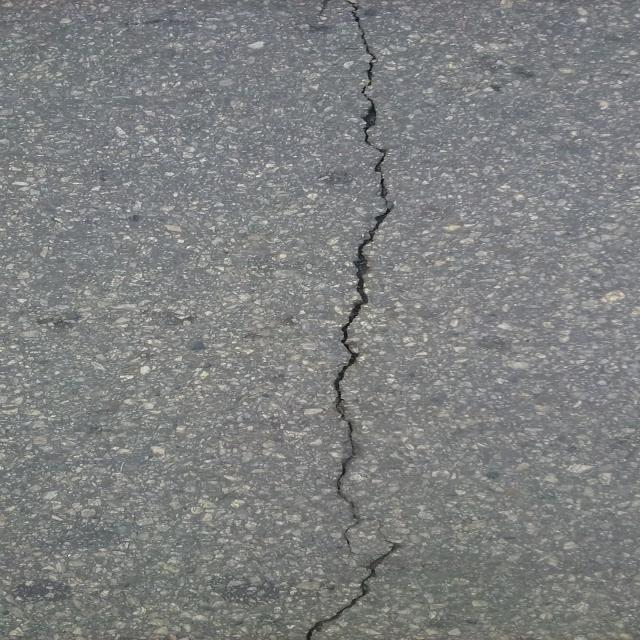Longitudial: (276, 1, 460, 640)
